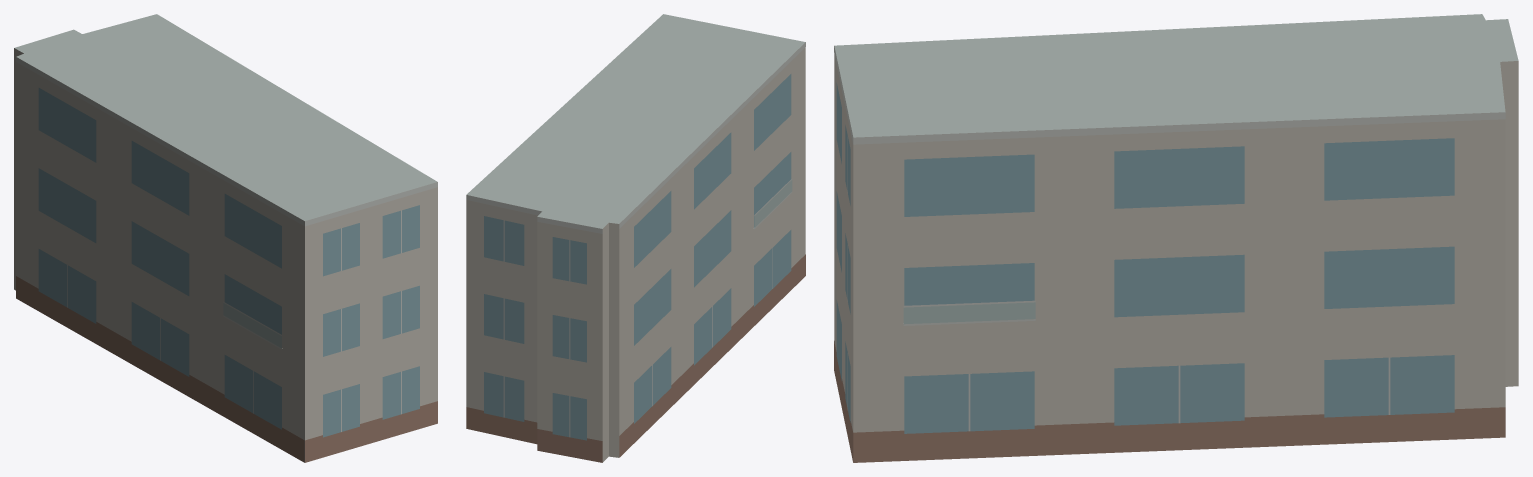
File: survey-upis-32608042.glb
The picture shows the model from 3 angles, left to right: view 1: azimuth 30°, elevation 25°; view 2: azimuth 150°, elevation 25°; view 3: azimuth 270°, elevation 25°; orthographic projection. The views are drawn at different scales.
Visible parts, largest first — view 1: survey-upis-32608042.tmp; view 2: survey-upis-32608042.tmp; view 3: survey-upis-32608042.tmp.
Part boxes in pixels (x1=…): survey-upis-32608042.tmp: x1=14, y1=14, x2=437, y2=462; survey-upis-32608042.tmp: x1=466, y1=14, x2=805, y2=462; survey-upis-32608042.tmp: x1=834, y1=14, x2=1518, y2=462.
Size of the model in its own units: 9.21 by 11.3 by 21.56.
